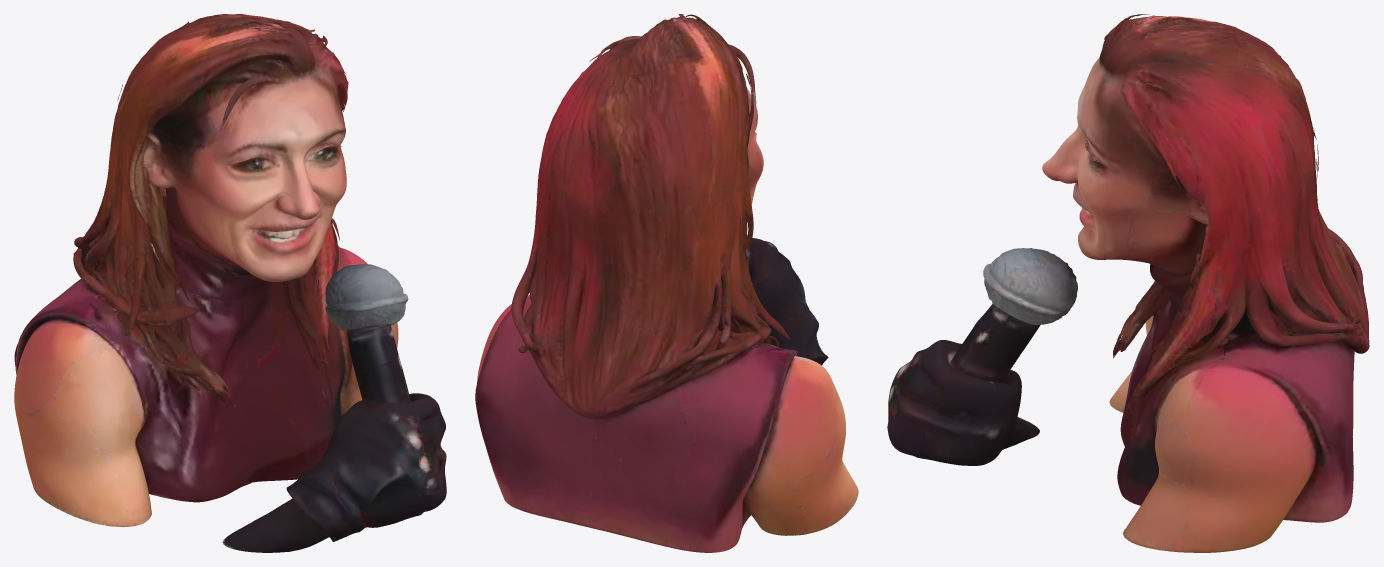
The model's file is base_basic_shaded-compressed.glb.
3 renders of one model, left to right at view 1: azimuth 30°, elevation 25°; view 2: azimuth 150°, elevation 25°; view 3: azimuth 270°, elevation 25°, orthographic. The views are drawn at different scales.
Visible parts, largest first — view 1: model; view 2: model; view 3: model.
Boxes of the visible parts, x1,y1,x2,y2 form: model: (14, 14, 446, 552); model: (475, 14, 858, 552); model: (887, 14, 1369, 552).
Size of the model in its own units: 1.4 by 1.72 by 1.65.
1 material, 1 textured.
